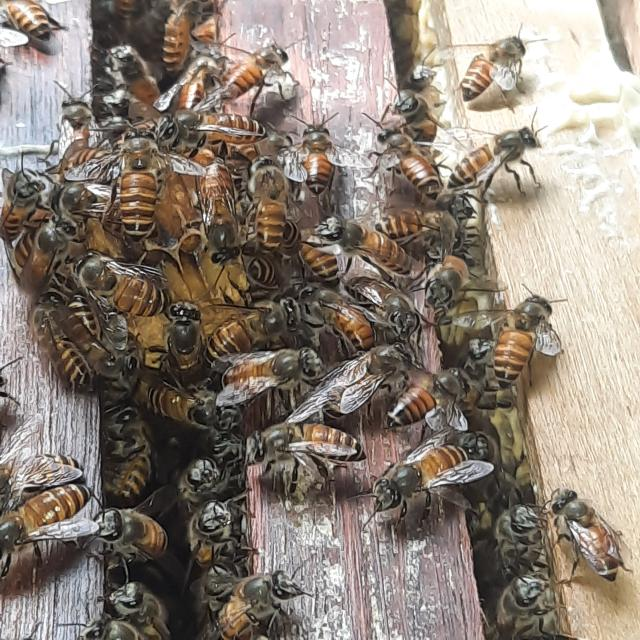honeybee: (367, 431, 487, 527), (240, 407, 356, 502), (546, 475, 640, 592), (489, 286, 585, 399), (458, 114, 556, 194), (153, 99, 278, 160), (315, 335, 423, 405), (328, 210, 427, 279), (457, 19, 546, 94), (0, 482, 86, 558), (289, 116, 361, 205), (218, 43, 310, 112), (215, 278, 303, 350), (220, 574, 315, 640), (75, 248, 164, 318), (25, 303, 88, 401), (216, 346, 330, 398), (376, 365, 467, 430), (99, 395, 151, 506), (379, 110, 439, 204), (298, 280, 387, 342), (164, 40, 228, 126), (238, 154, 295, 242), (145, 376, 232, 433), (52, 68, 100, 171), (196, 162, 243, 263), (422, 249, 474, 339), (16, 218, 69, 306), (116, 134, 161, 237), (114, 43, 172, 121), (0, 159, 50, 248), (95, 576, 173, 628), (492, 501, 546, 574), (383, 85, 445, 146), (156, 302, 211, 369), (502, 579, 562, 640), (297, 226, 353, 284), (194, 563, 241, 623), (156, 0, 192, 71), (6, 0, 64, 44), (179, 453, 229, 502), (194, 504, 237, 542), (246, 250, 288, 288), (404, 57, 448, 93), (108, 0, 140, 22)
